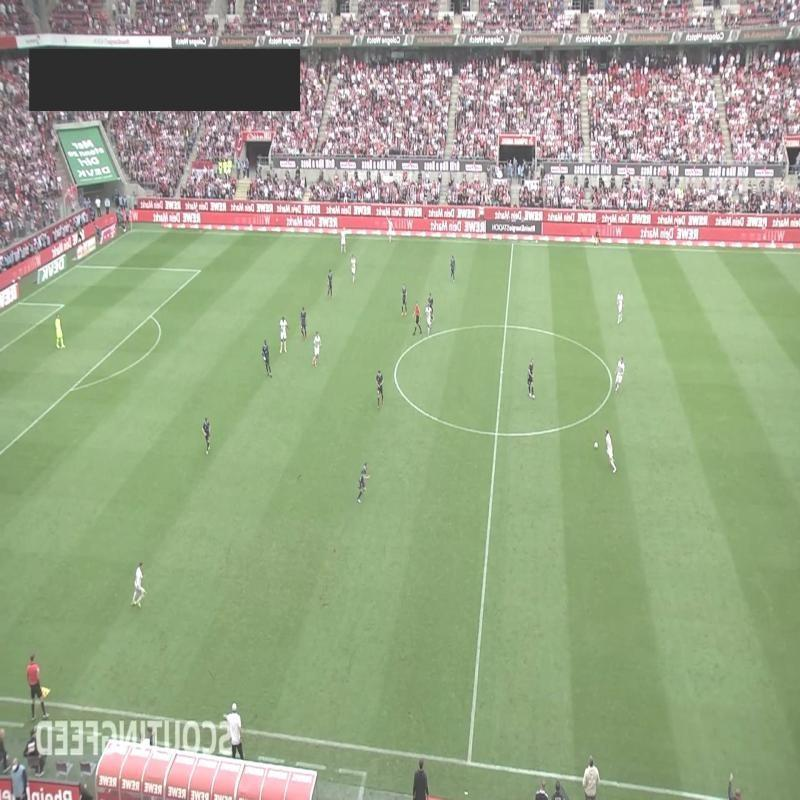1: (125, 224, 139, 238)
10: (142, 307, 158, 323)
11: (62, 380, 78, 401)
13: (506, 236, 520, 250)
14: (500, 318, 514, 334)
15: (490, 425, 504, 443)
16: (458, 752, 481, 775)
2: (70, 259, 84, 273)
3: (12, 296, 26, 310)
7: (55, 297, 69, 311)
9: (191, 263, 205, 277)
c: (388, 362, 402, 376), (606, 375, 618, 389)
